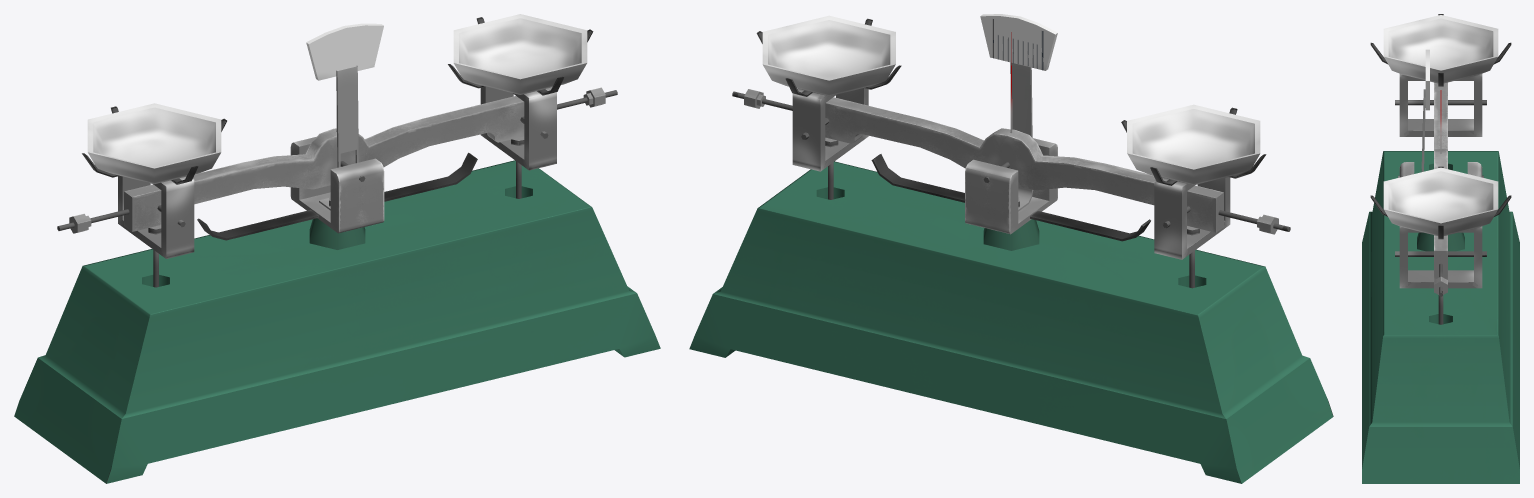
File: tenbin.fbx
3 renders of one model, left to right at view 1: azimuth 30°, elevation 25°; view 2: azimuth 150°, elevation 25°; view 3: azimuth 270°, elevation 25°, orthographic. The views are drawn at different scales.
Parts seen in each view (by area): view 1: dodai, ude, Right_sara, Left_sara, Right_koteigu, Left_koteigu; view 2: dodai, ude, Right_sara, Left_sara, Right_koteigu, Left_koteigu; view 3: dodai, Left_sara, Right_sara, Left_koteigu, Right_koteigu, ude.
Boxes of the visible parts, x1,y1,x2,y2 form: dodai: (14,23,660,483); ude: (57,87,617,233); Right_sara: (87,103,221,184); Left_sara: (453,14,587,94); Right_koteigu: (82,106,226,287); Left_koteigu: (448,17,593,198); dodai: (689,14,1333,483); ude: (732,89,1290,234); Right_sara: (1127,104,1260,185); Left_sara: (762,15,895,96); Right_koteigu: (1121,107,1266,288); Left_koteigu: (756,18,901,199); dodai: (1362,49,1519,483); Left_sara: (1383,167,1498,235); Right_sara: (1383,15,1498,83); Left_koteigu: (1370,166,1511,324); Right_koteigu: (1370,14,1511,136); ude: (1434,82,1447,296).
Size of the model in its own units: 400 by 247 by 114.
